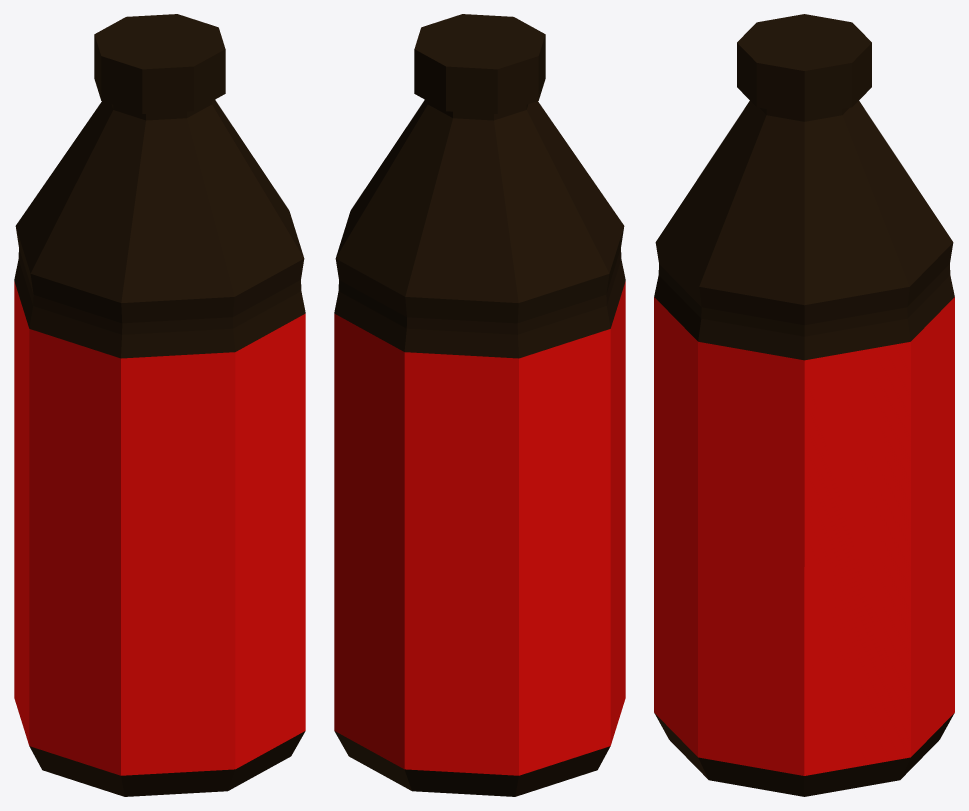
File: красная бутылка.fbx
3 views of the same model, side by side, from view 1: azimuth 30°, elevation 25°; view 2: azimuth 150°, elevation 25°; view 3: azimuth 270°, elevation 25° (orthographic).
Parts seen in each view (by area): view 1: Blue; view 2: Blue; view 3: Blue.
Part boxes in pixels (left/top/right/bottom): Blue: left=14, top=14, right=305, bottom=796; Blue: left=334, top=14, right=625, bottom=796; Blue: left=654, top=14, right=954, bottom=796.
Bounding box in the file's own units: 8.41 × 21.5 × 8.41.
